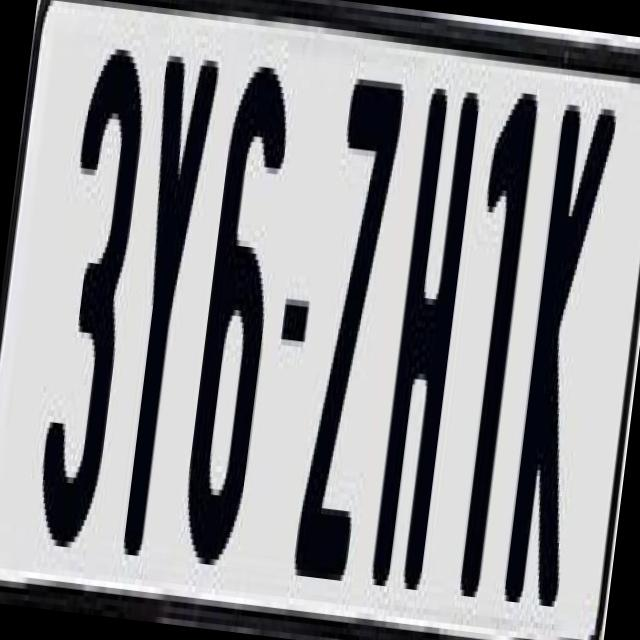1: (436, 84, 539, 603)
3: (28, 40, 150, 579)
6: (175, 64, 292, 572)
H: (368, 70, 488, 574)
K: (500, 98, 626, 631)
Y: (98, 48, 215, 581)
Z: (288, 66, 406, 598)
